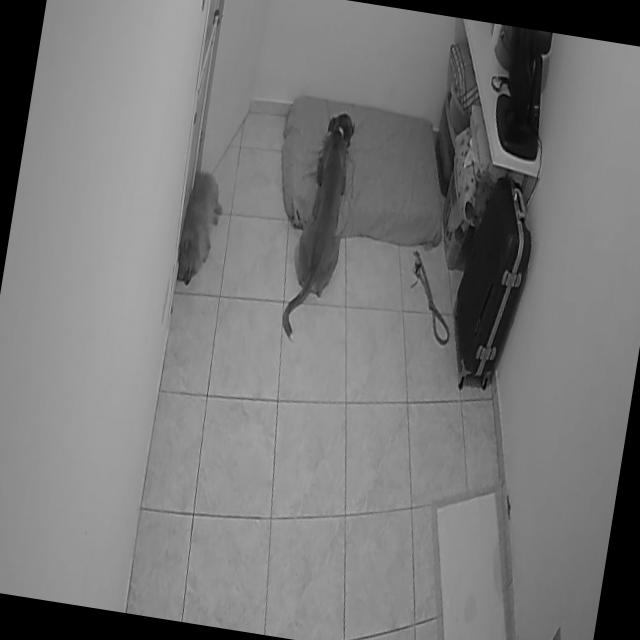laying down: (274, 88, 370, 354), (171, 161, 231, 298)
